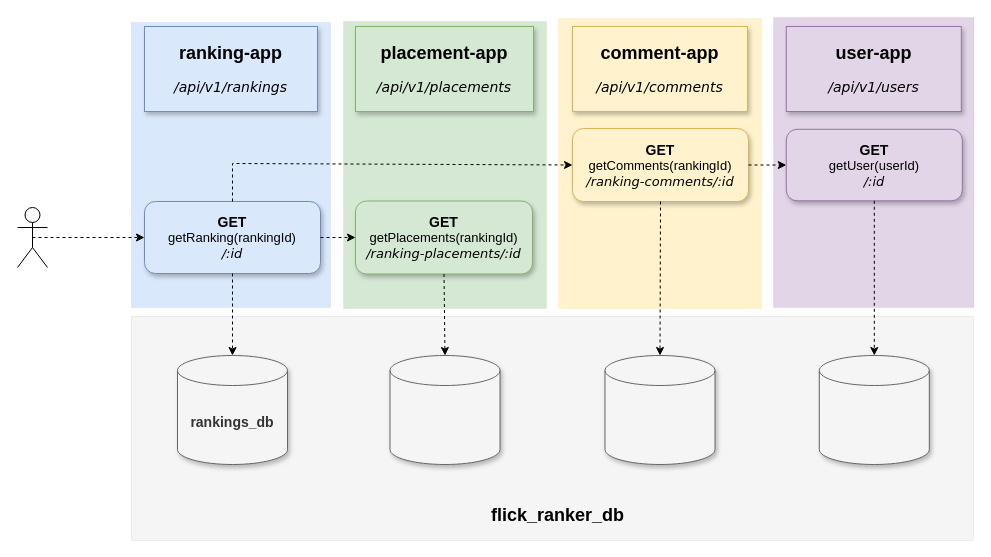
Image size: 991x557. Some labels were removed from this diagram. Here are the shapes that lost their labels. From the top down, the centre of each, then its label:
pixel 32 237: Actor
pixel 445 411: placements_db
pixel 660 411: comments_db
pixel 874 411: users_db
